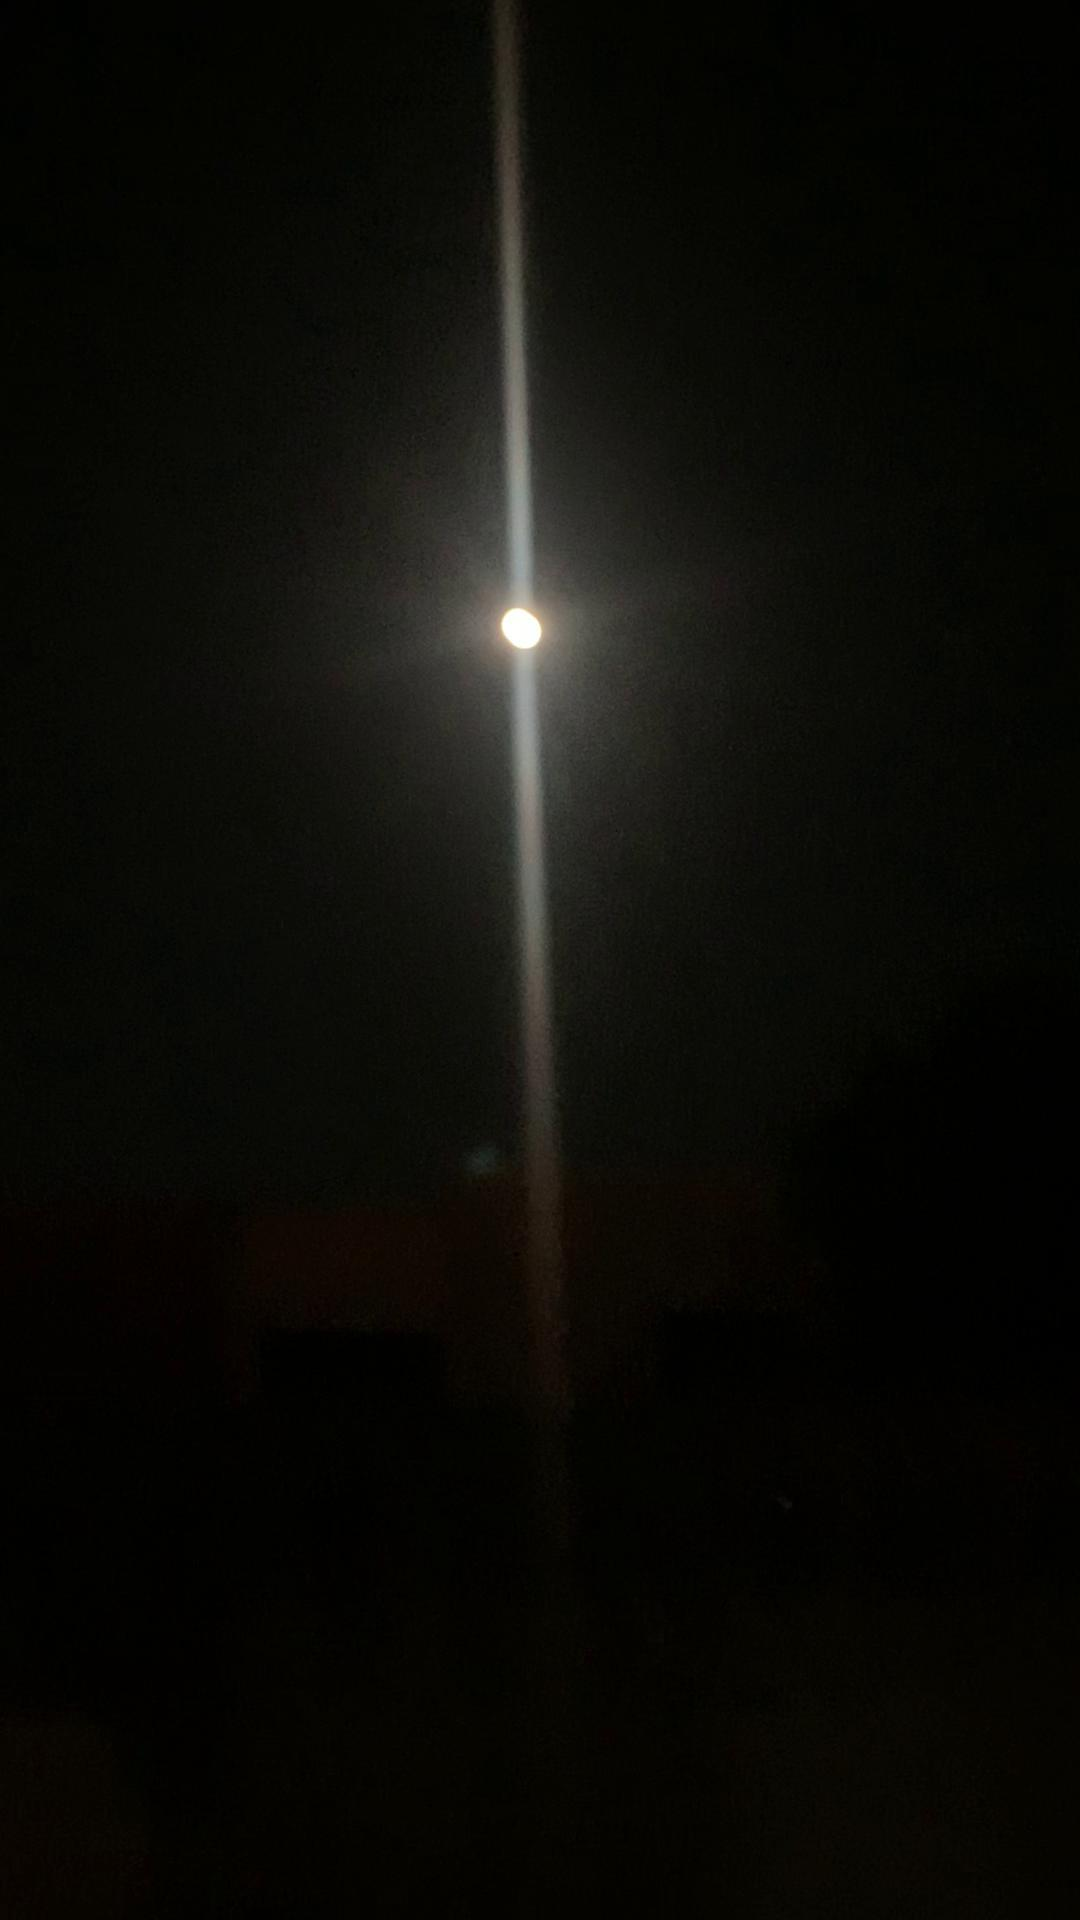moon: (484, 592, 592, 691)
